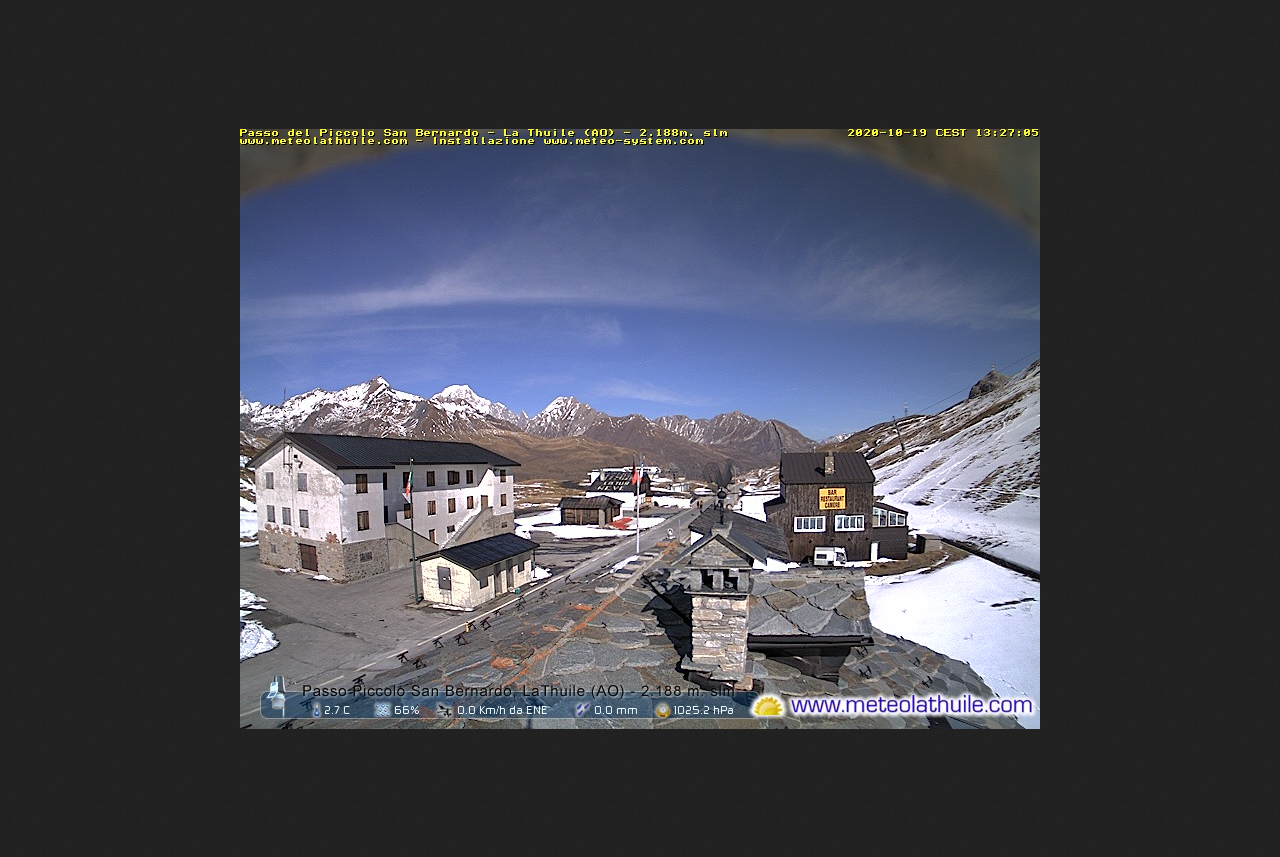no: (629, 459, 638, 489), (405, 464, 413, 496), (638, 460, 645, 486)
